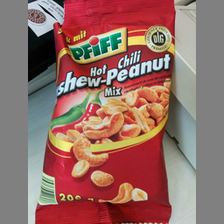nuts: (34, 1, 177, 224)
